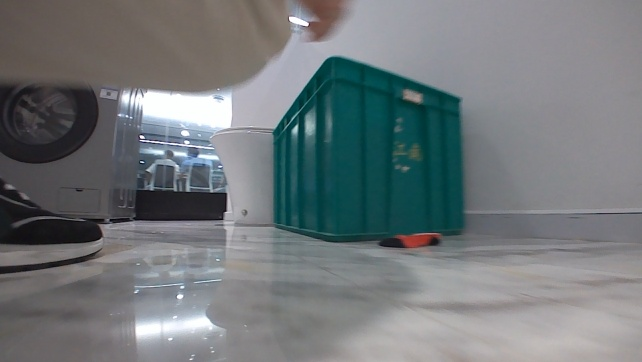shoe: (0, 175, 106, 275)
toilet: (205, 124, 278, 227)
washing_machine: (0, 85, 151, 225)
